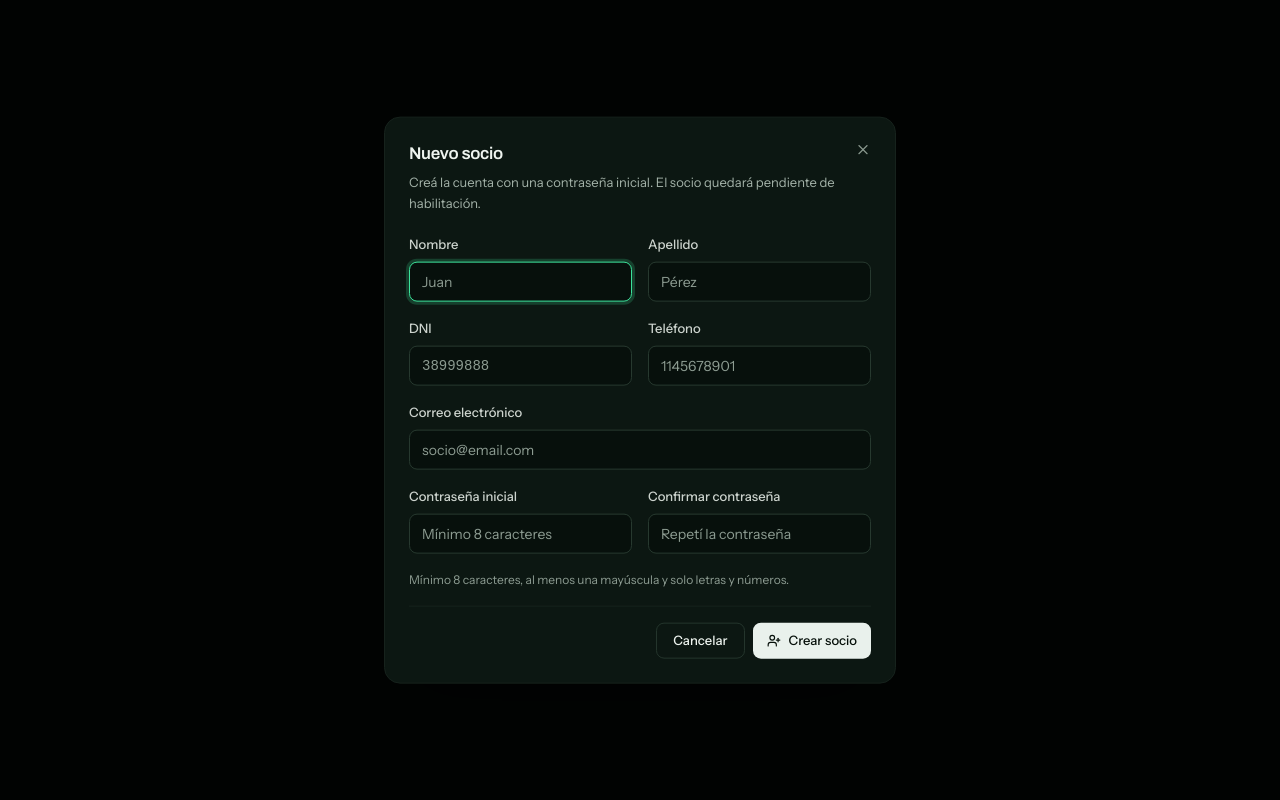
Test case: UserCreateDialog › no envía el formulario si las contraseñas no coinciden
Type "Secreta123" into the password field labelled "Contraseña inicial".
click(520, 534); type("Secreta123")  # box 409,514 -> 632,554
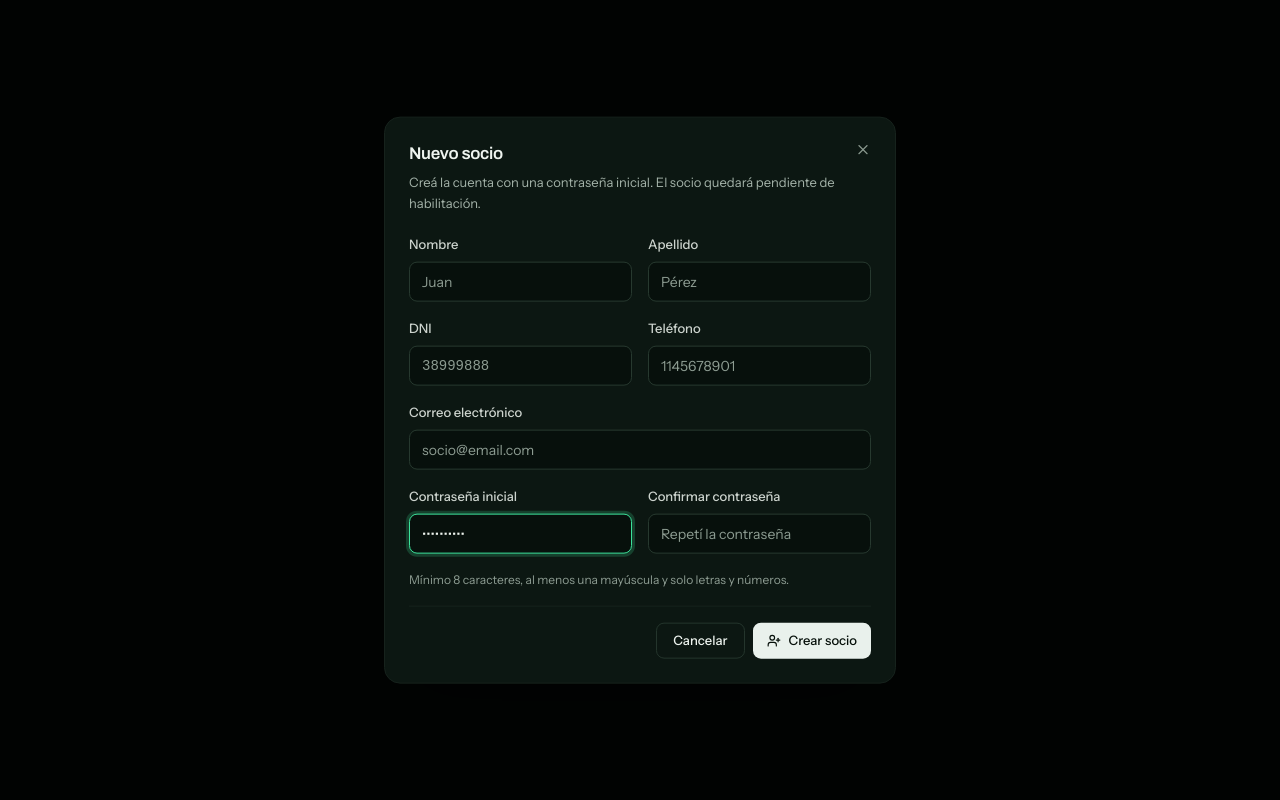
Type "Otraclave123" into the password field labelled "Confirmar contraseña".
click(760, 534); type("Otraclave123")  # box 648,514 -> 871,554
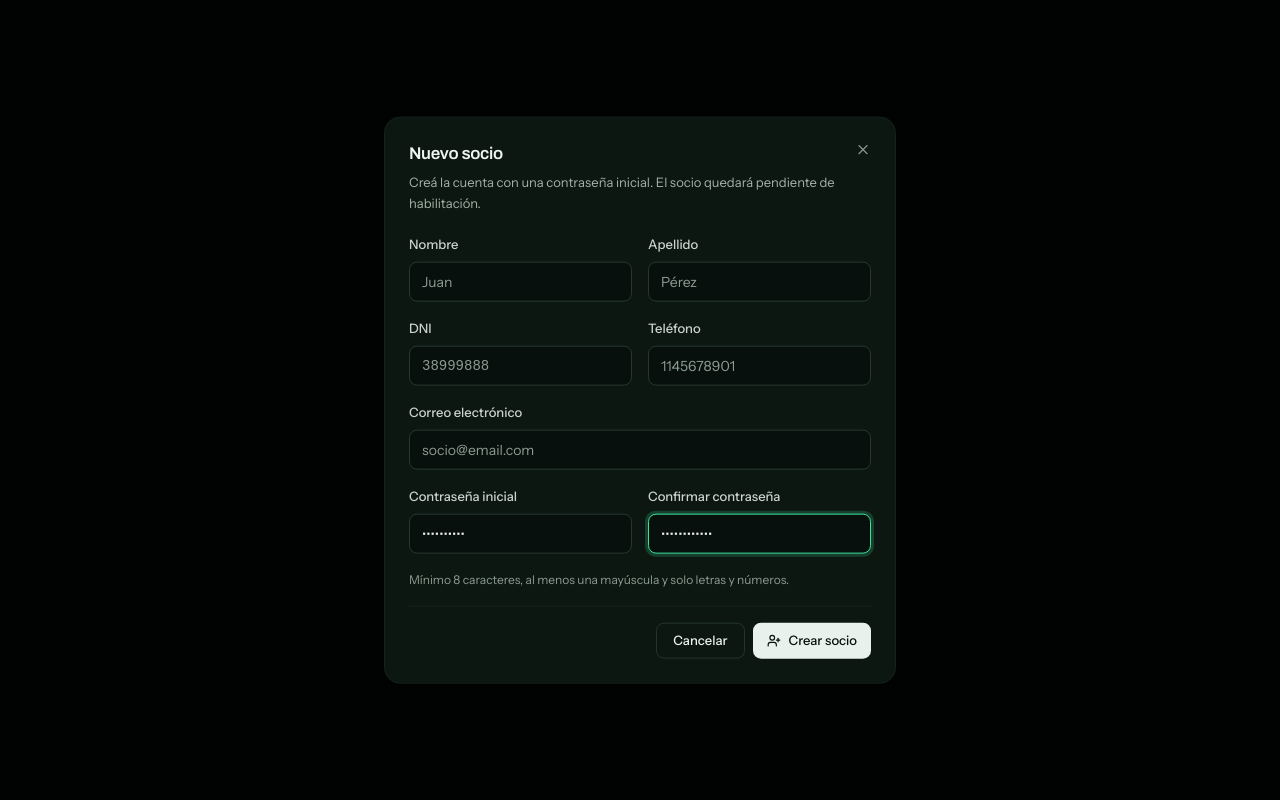
Click the button "Crear socio".
click(812, 640)  # box 752,622 -> 871,658
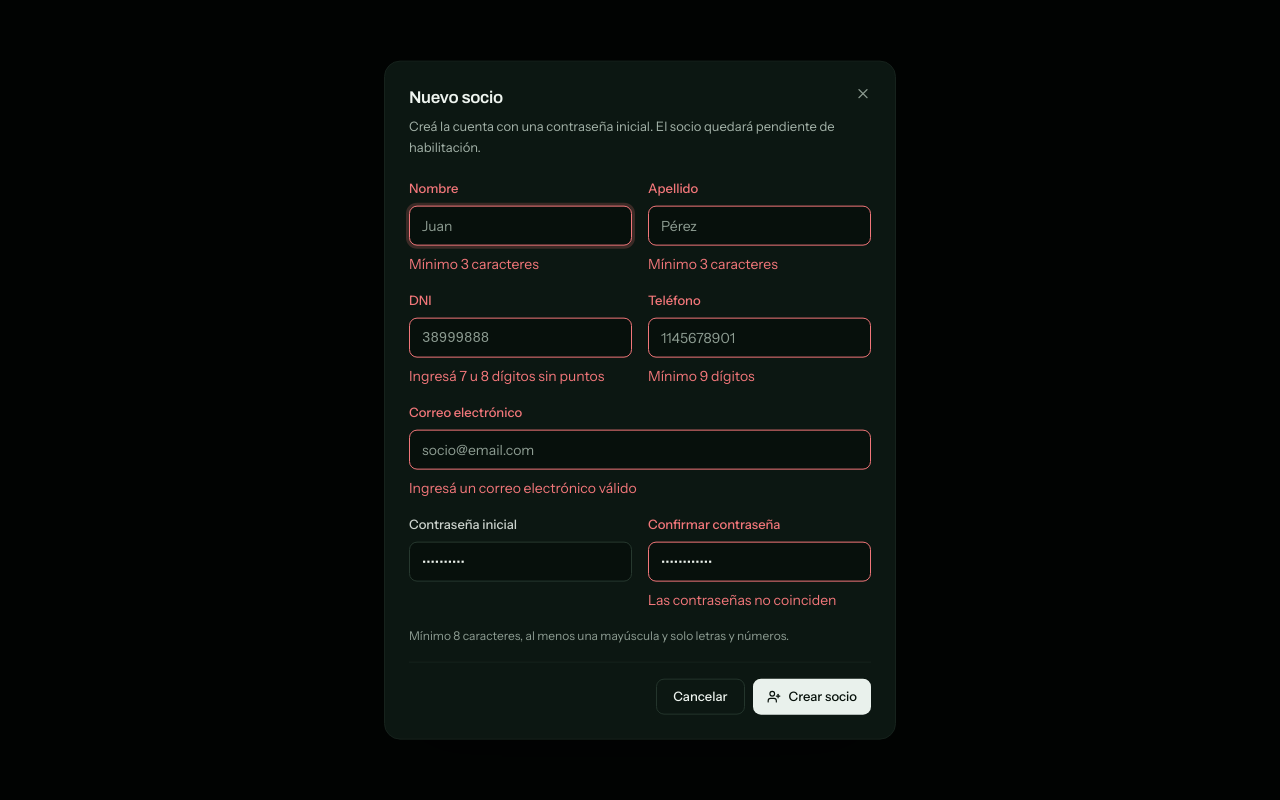
Expected: the text "Las contraseñas no coinciden" is shown, 648,591 -> 836,609
